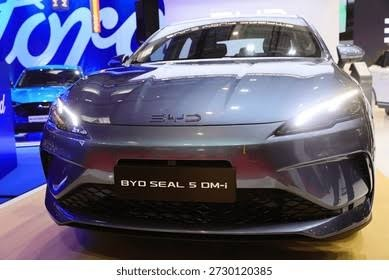car: (34, 12, 372, 253), (76, 6, 375, 153), (1, 3, 161, 156), (1, 1, 156, 155)
